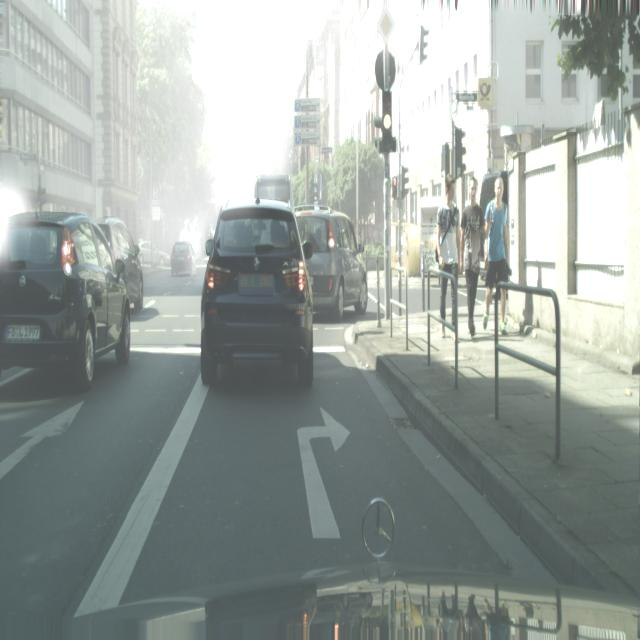person: (481, 175, 511, 333), (461, 176, 486, 338), (435, 178, 460, 340)
truck: (0, 211, 131, 390), (200, 195, 314, 390), (296, 206, 369, 321), (97, 217, 144, 312), (138, 239, 170, 268), (171, 241, 196, 278)
